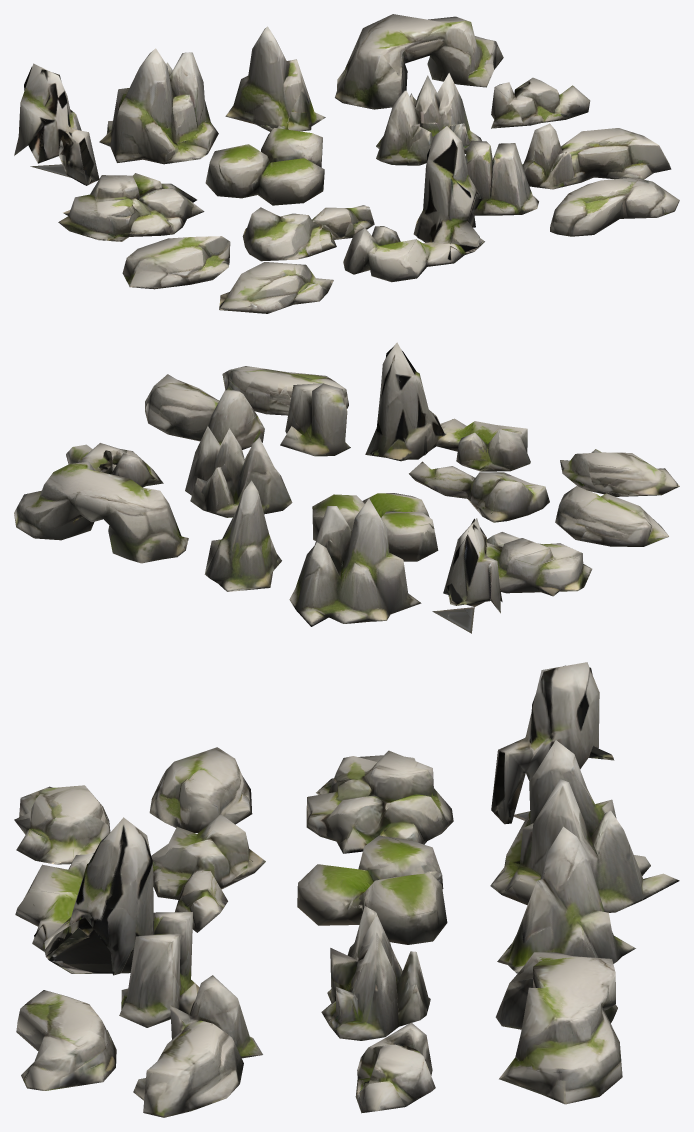
Rendered from Meshy_AI_Rock_Formations_Colle_1016100656_texture.fbx.
The picture shows the model from 3 angles, top to bottom: view 1: azimuth 30°, elevation 25°; view 2: azimuth 150°, elevation 25°; view 3: azimuth 270°, elevation 25°; orthographic projection. The views are drawn at different scales.
Visible parts, largest first — view 1: Mesh_0; view 2: Mesh_0; view 3: Mesh_0.
Boxes of the visible parts, left/top/right/bottom form: Mesh_0: left=14, top=14, right=679, bottom=313; Mesh_0: left=14, top=342, right=679, bottom=633; Mesh_0: left=14, top=662, right=679, bottom=1117.
Bounding box in the file's own units: 193 × 37.33 × 154.
Materials: 1 (1 with a texture image).
